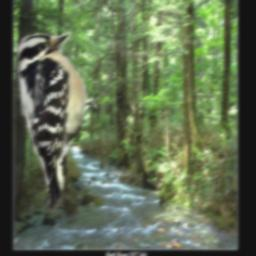Woodpecker: (16, 28, 110, 213)
